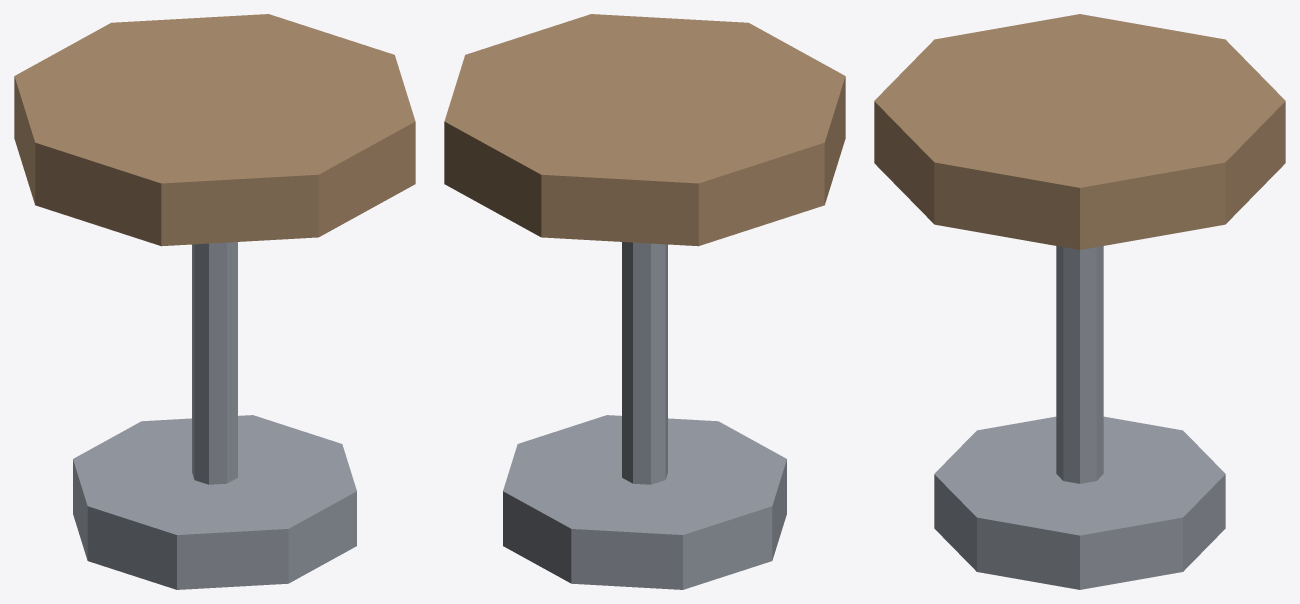
3 renders of one model, left to right at view 1: azimuth 30°, elevation 25°; view 2: azimuth 150°, elevation 25°; view 3: azimuth 270°, elevation 25°, orthographic.
Parts seen in each view (by area): view 1: Top, Base, Stem; view 2: Top, Base, Stem; view 3: Top, Base, Stem.
Boxes of the visible parts, bbox=[...] form: Top: bbox=[14, 14, 415, 246]; Base: bbox=[73, 415, 356, 589]; Stem: bbox=[192, 242, 237, 484]; Top: bbox=[444, 14, 845, 246]; Base: bbox=[503, 415, 786, 589]; Stem: bbox=[622, 242, 667, 484]; Top: bbox=[874, 14, 1285, 249]; Base: bbox=[934, 416, 1225, 589]; Stem: bbox=[1056, 246, 1103, 483].
Size of the model in its own units: 0.48 by 0.55 by 0.48.
